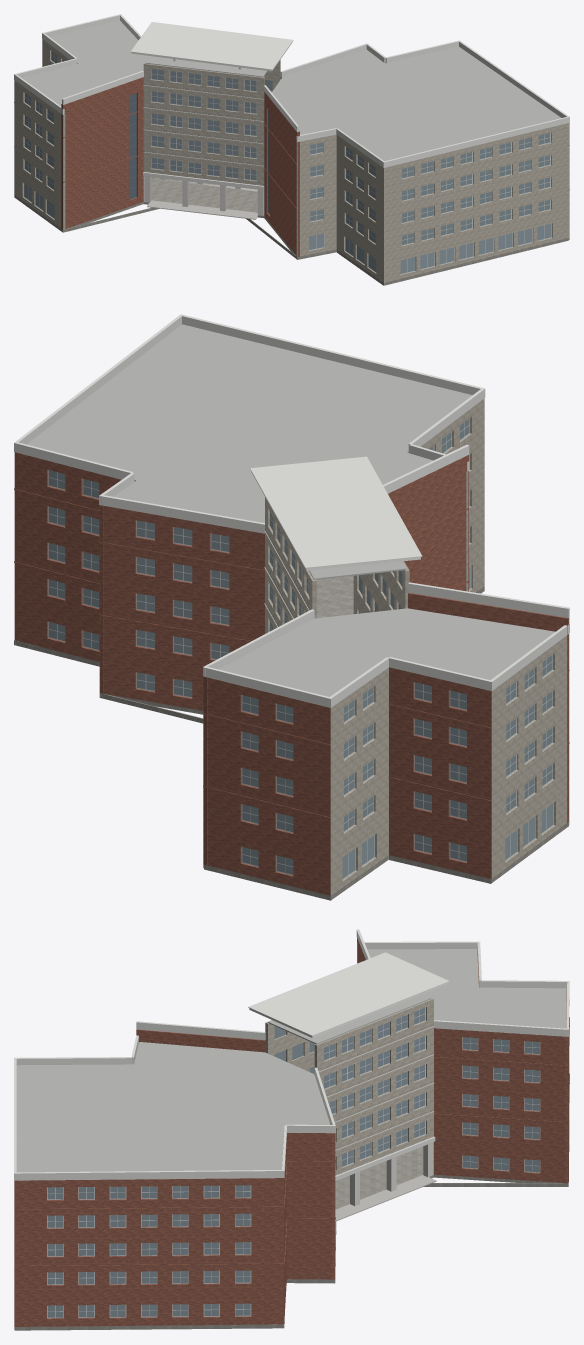
3 views of the same model, one above another, from view 1: azimuth 30°, elevation 25°; view 2: azimuth 150°, elevation 25°; view 3: azimuth 270°, elevation 25° (orthographic). The views are drawn at different scales.
Parts seen in each view (by area): view 1: student__stone, student__roof, student__brick, student__cap, student__glass, student__frame, student__plinth, student__doorglass, student__trim, student__slotglass, student__foundation, student__column (+1 smaller); view 2: student__brick, student__roof, student__stone, student__cap, student__glass, student__frame, student__plinth, student__foundation, student__doorglass; view 3: student__brick, student__roof, student__cap, student__glass, student__stone, student__frame, student__plinth, student__foundation, student__trim, student__threshold-west, student__column.
Part boxes in pixels (bbox=[...]): student__stone: bbox=[14, 39, 569, 282]; student__roof: bbox=[22, 20, 561, 161]; student__brick: bbox=[14, 77, 569, 256]; student__cap: bbox=[14, 14, 569, 167]; student__glass: bbox=[25, 51, 550, 245]; student__frame: bbox=[24, 54, 551, 274]; student__plinth: bbox=[14, 176, 569, 284]; student__doorglass: bbox=[24, 184, 551, 273]; student__trim: bbox=[143, 85, 264, 190]; student__slotglass: bbox=[129, 93, 269, 213]; student__foundation: bbox=[14, 197, 568, 285]; student__column: bbox=[144, 59, 264, 215]; student__brick: bbox=[14, 452, 569, 895]; student__roof: bbox=[27, 324, 555, 696]; student__stone: bbox=[265, 398, 569, 895]; student__cap: bbox=[14, 314, 569, 707]; student__glass: bbox=[49, 418, 552, 874]; student__frame: bbox=[48, 418, 553, 879]; student__plinth: bbox=[15, 576, 569, 899]; student__foundation: bbox=[14, 586, 568, 900]; student__doorglass: bbox=[342, 566, 553, 878]; student__brick: bbox=[14, 938, 569, 1326]; student__roof: bbox=[17, 949, 566, 1172]; student__cap: bbox=[14, 929, 569, 1180]; student__glass: bbox=[47, 1008, 539, 1317]; student__stone: bbox=[16, 950, 433, 1175]; student__frame: bbox=[47, 1007, 540, 1318]; student__plinth: bbox=[14, 1142, 568, 1329]; student__foundation: bbox=[14, 1183, 568, 1330]; student__trim: bbox=[319, 1026, 435, 1180]; student__threshold-west: bbox=[335, 1175, 436, 1221]; student__column: bbox=[350, 1142, 432, 1205].
Bounding box in the file's own units: 63.12 × 24.89 × 63.92.
Materials: 15 (5 with a texture image).
